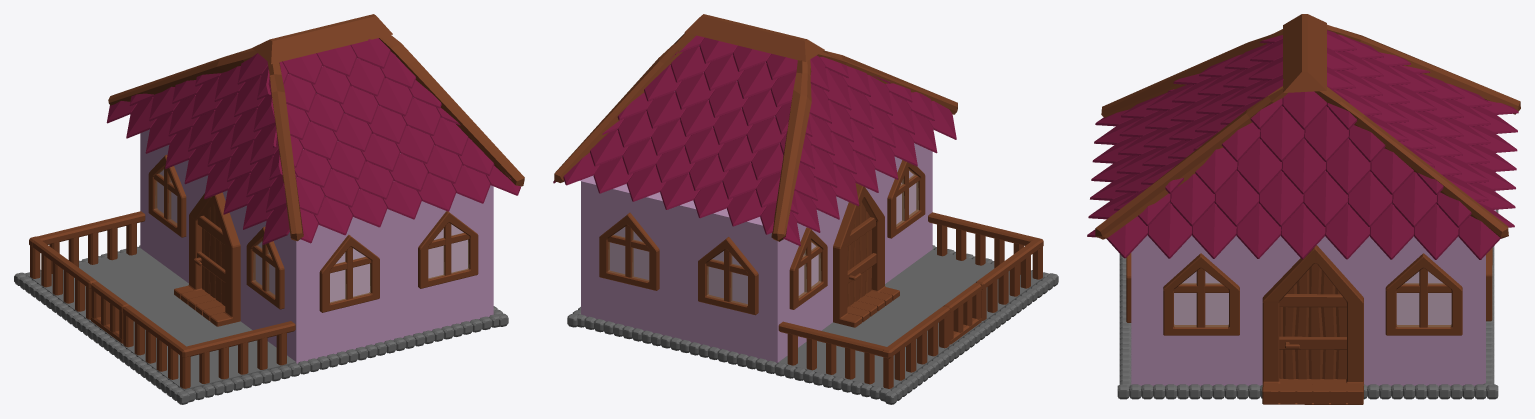
Rendered from Domek_kotki.fbx.
3 renders of one model, left to right at view 1: azimuth 30°, elevation 25°; view 2: azimuth 150°, elevation 25°; view 3: azimuth 270°, elevation 25°, orthographic. The views are drawn at different scales.
Parts seen in each view (by area): view 1: Podstawy, Dachówka.001, Dachówka.004, Taras, Drzwi.002, Kamienie.002, Okno_v2.004, Okno_v2.005, Połączenia.001, Kamienie.003, Połączenia.003, Połączenia.005 (+8 smaller); view 2: Podstawy, Dachówka.002, Dachówka.004, Taras, Drzwi.002, Kamienie.001, Okno_v2.003, Okno_v2.002, Połączenia.004, Kamienie.003, Połączenia.001, Okno_v2.007 (+8 smaller); view 3: Dachówka.003, Podstawy, Dachówka.002, Dachówka.001, Drzwi.001, Okno_v2.001, Okno_v2, Kamienie.004, Połączenia.003, Połączenia.001, Połączenia.002, Połączenia.005 (+5 smaller).
Part boxes in pixels (box(x1,y1,x2,y2)): Podstawy: box(140, 129, 493, 363); Dachówka.001: box(279, 38, 520, 243); Dachówka.004: box(106, 53, 289, 244); Taras: box(28, 248, 296, 390); Drzwi.002: box(174, 192, 240, 326); Kamienie.002: box(184, 314, 499, 402); Okno_v2.004: box(418, 211, 478, 288); Okno_v2.005: box(319, 234, 379, 312); Połączenia.001: box(252, 14, 392, 64); Kamienie.003: box(14, 272, 189, 404); Połączenia.003: box(379, 35, 524, 186); Połączenia.005: box(267, 62, 303, 241); Podstawy: box(579, 143, 932, 363); Dachówka.002: box(563, 35, 797, 234); Dachówka.004: box(783, 55, 956, 245); Taras: box(778, 249, 1044, 389); Drzwi.002: box(833, 183, 899, 327); Kamienie.001: box(577, 314, 890, 401); Okno_v2.003: box(698, 237, 758, 315); Okno_v2.002: box(599, 212, 659, 290); Połączenia.004: box(771, 59, 811, 241); Kamienie.003: box(884, 273, 1058, 404); Połączenia.001: box(684, 14, 824, 61); Okno_v2.007: box(789, 227, 827, 309); Dachówka.003: box(1106, 91, 1501, 259); Podstawy: box(1131, 172, 1495, 386); Dachówka.002: box(1327, 30, 1518, 227); Dachówka.001: box(1087, 35, 1283, 237); Drzwi.001: box(1262, 245, 1363, 404); Okno_v2.001: box(1385, 253, 1462, 335); Okno_v2: box(1163, 253, 1239, 335); Kamienie.004: box(1117, 384, 1498, 399); Połączenia.003: box(1095, 86, 1287, 239); Połączenia.001: box(1283, 14, 1326, 92); Połączenia.002: box(1314, 86, 1508, 238); Połączenia.005: box(1101, 29, 1282, 117).
Bounding box in the file's own units: 906 × 653 × 857.
